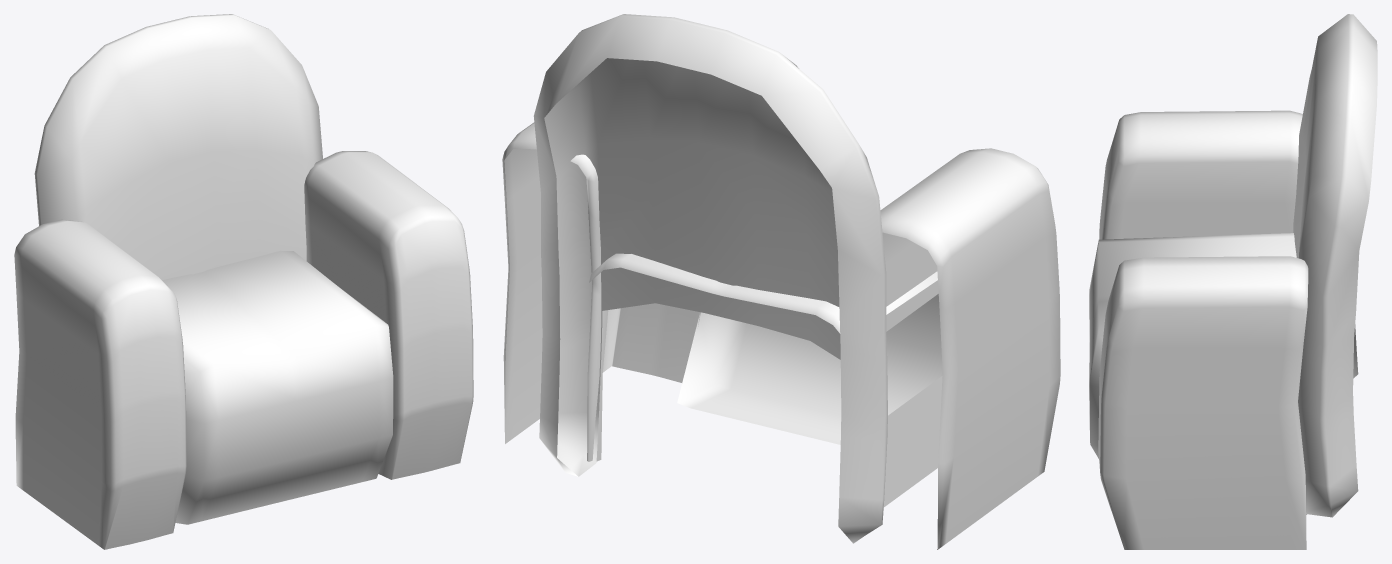
The model's file is Mesh_Armchair_002.fbx.
3 views of the same model, side by side, from view 1: azimuth 30°, elevation 25°; view 2: azimuth 150°, elevation 25°; view 3: azimuth 270°, elevation 25° (orthographic). The views are drawn at different scales.
Visible parts, largest first — view 1: arm_chair; view 2: arm_chair; view 3: arm_chair.
Part boxes in pixels (x1,y1,x2,y2): arm_chair: (14, 14, 473, 549); arm_chair: (502, 14, 1060, 549); arm_chair: (1089, 14, 1377, 549).
Size of the model in its own units: 211 by 225 by 140.
